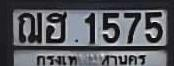1: (84, 12, 94, 43)
5: (144, 10, 162, 42), (102, 11, 119, 42)
7: (123, 12, 140, 43)
A12: (17, 11, 41, 42)
A44: (45, 10, 66, 42)
BKK: (34, 51, 149, 66)
